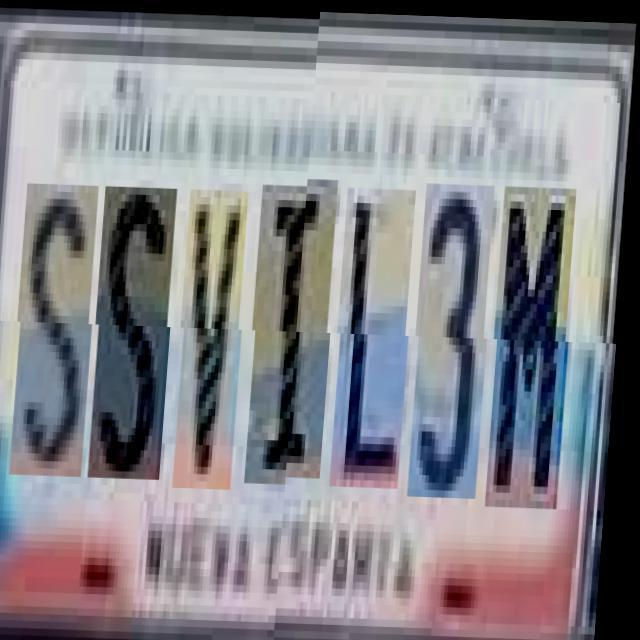3: (414, 188, 500, 502)
I: (252, 182, 344, 482)
L: (336, 192, 422, 492)
M: (492, 189, 582, 512)
S: (95, 186, 184, 478), (17, 184, 105, 476)
V: (180, 188, 254, 488)
